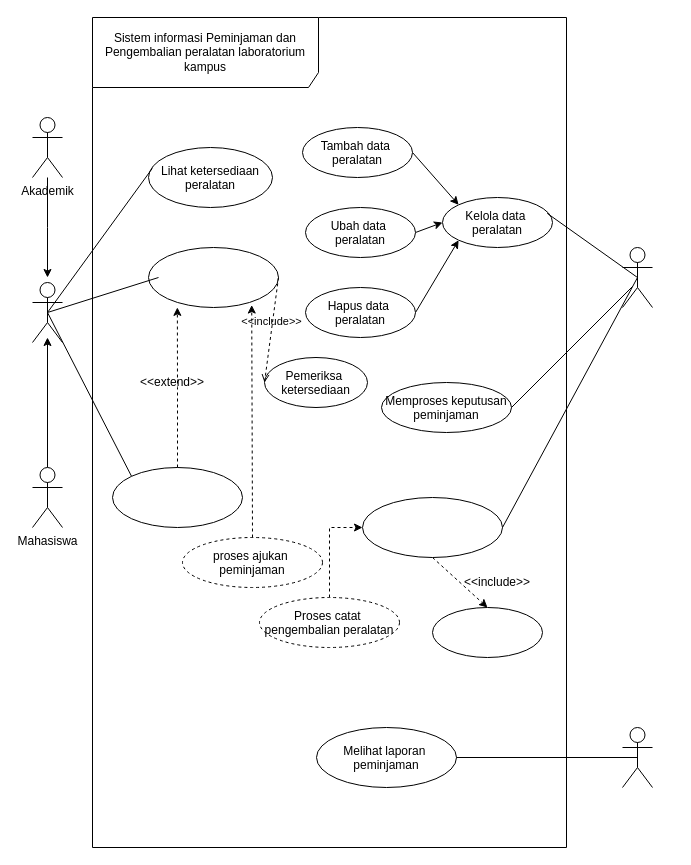
Image size: 691x865. Some labels were removed from this diagram. Here are the shapes that lost their labels. From the top down, the centre of each, then its label:
At [213,277]: "Ajukan Peminjaman".
At [637,277]: "Petugas Laboratorium".
At [47,312]: "Peminjam".
At [177,497]: "Cetak bukti pengajuan".
At [432,527]: "catat pengembalian peralatan".
At [487,632]: "Periksa kondisi peralatan".
At [637,757]: "kepala Laboratorium".
